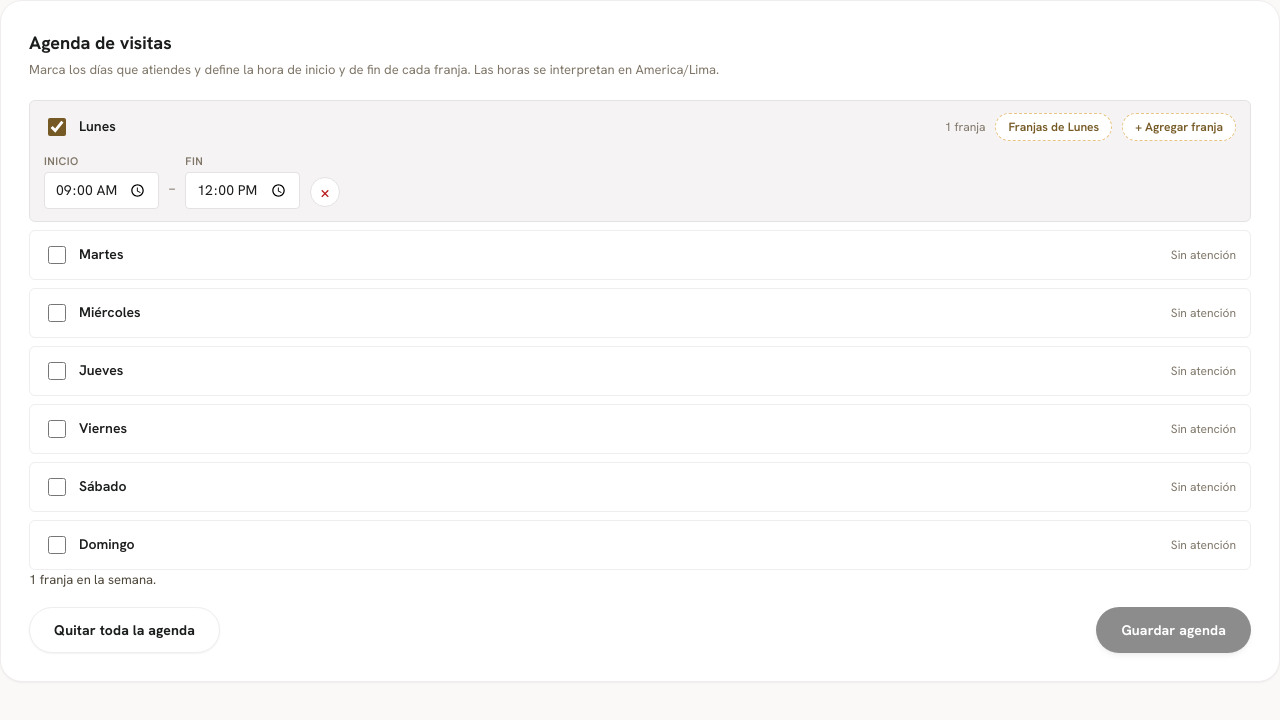
Test case: ScheduleManager › Edición del borrador › descarta toda la agenda con un clic
The image size is (1280, 720).
Click the button "Quitar toda la agenda" at (125, 630), box [29,607,220,653]
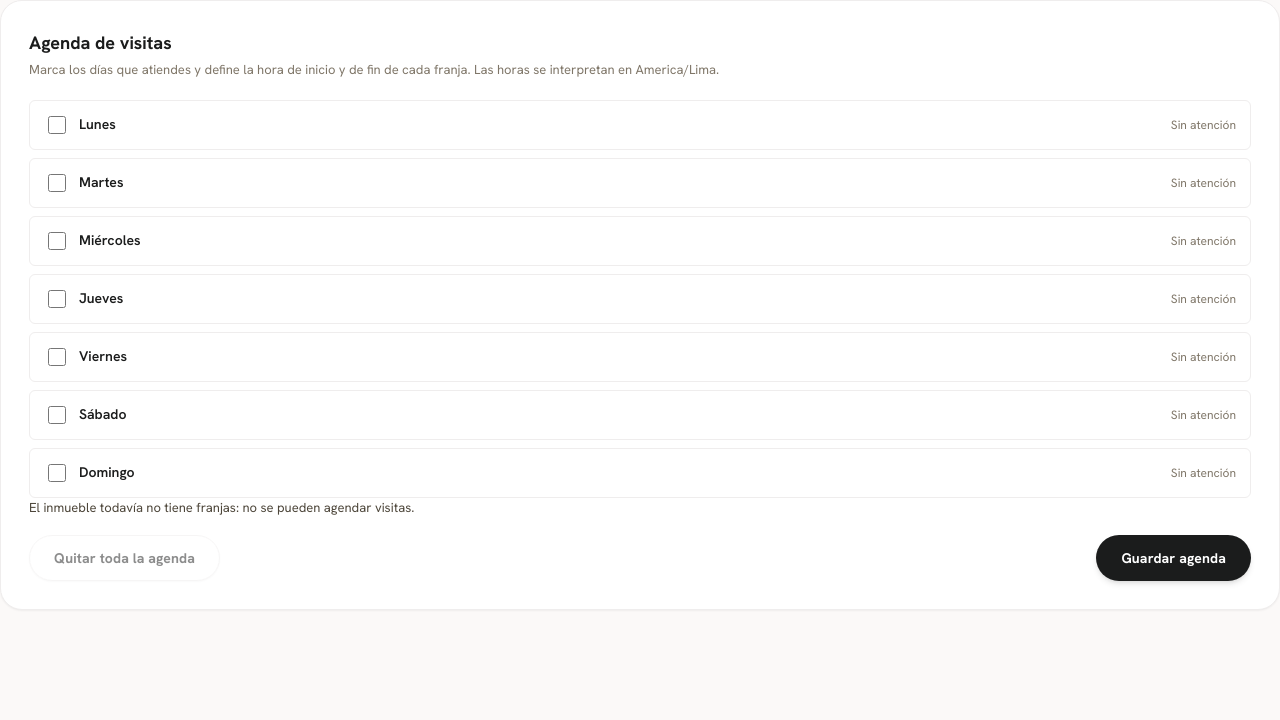
Expected: the switch labelled "Lunes" is not checked, [48,116,66,134]
Expected: the time field labelled "Franja 1 de Lunes: hora de inicio" is gone
